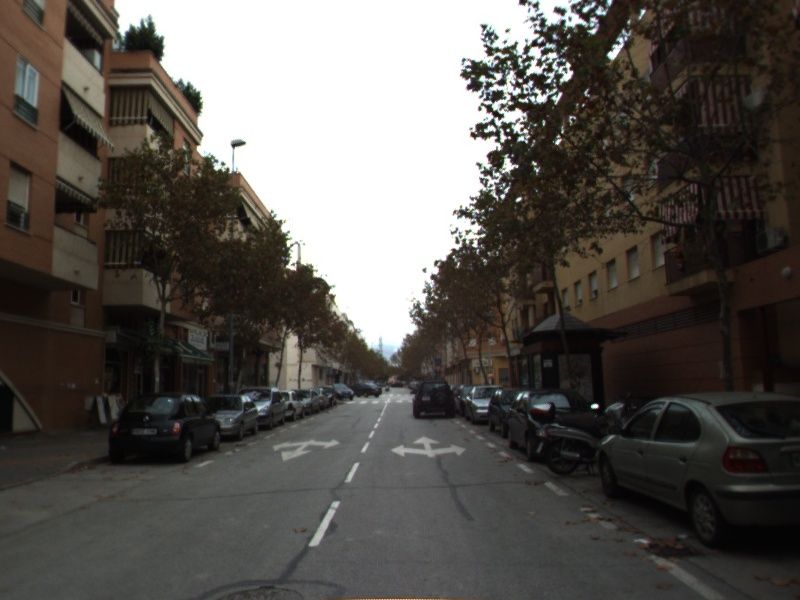STRAIGHT_LEFT_RIGHT: (389, 434, 469, 459)
